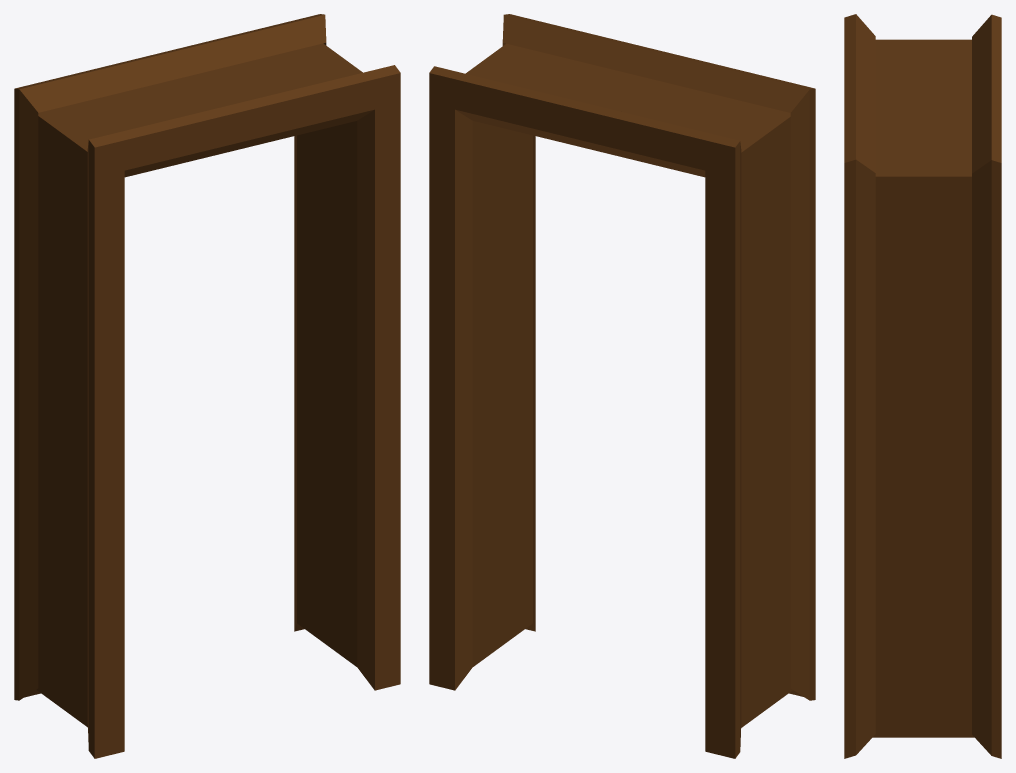
Rendered from kapi_cerceve.fbx.
3 renders of one model, left to right at view 1: azimuth 30°, elevation 25°; view 2: azimuth 150°, elevation 25°; view 3: azimuth 270°, elevation 25°, orthographic. The views are drawn at different scales.
Parts seen in each view (by area): view 1: Küp; view 2: Küp; view 3: Küp.
Part boxes in pixels (left/top/right/bottom): Küp: left=14, top=14, right=400, bottom=758; Küp: left=429, top=14, right=815, bottom=758; Küp: left=844, top=14, right=1001, bottom=758.
Bounding box in the file's own units: 117 × 224 × 53.3.
